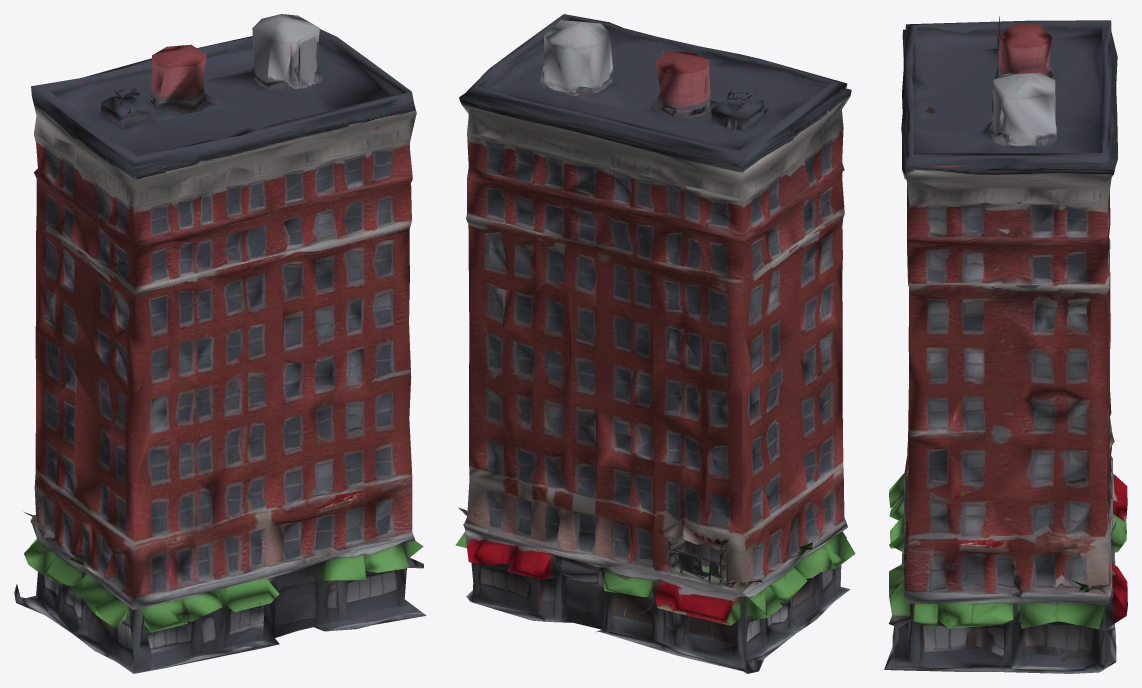
Rendered from bld7_lo.glb.
The picture shows the model from 3 angles, left to right: view 1: azimuth 30°, elevation 25°; view 2: azimuth 150°, elevation 25°; view 3: azimuth 270°, elevation 25°; orthographic projection.
Visible parts, largest first — view 1: tripo_node_a166f90c-aada-4756-a2b3-a43c1e9db881; view 2: tripo_node_a166f90c-aada-4756-a2b3-a43c1e9db881; view 3: tripo_node_a166f90c-aada-4756-a2b3-a43c1e9db881.
Part boxes in pixels (left/top/right/bottom): tripo_node_a166f90c-aada-4756-a2b3-a43c1e9db881: left=14, top=14, right=426, bottom=673; tripo_node_a166f90c-aada-4756-a2b3-a43c1e9db881: left=455, top=14, right=855, bottom=673; tripo_node_a166f90c-aada-4756-a2b3-a43c1e9db881: left=884, top=16, right=1127, bottom=673.
Size of the model in its own units: 0.5776 by 0.996 by 0.392.
Materials: 1 (1 with a texture image).
